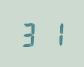one: (42, 19, 64, 46)
three: (19, 20, 41, 47)
